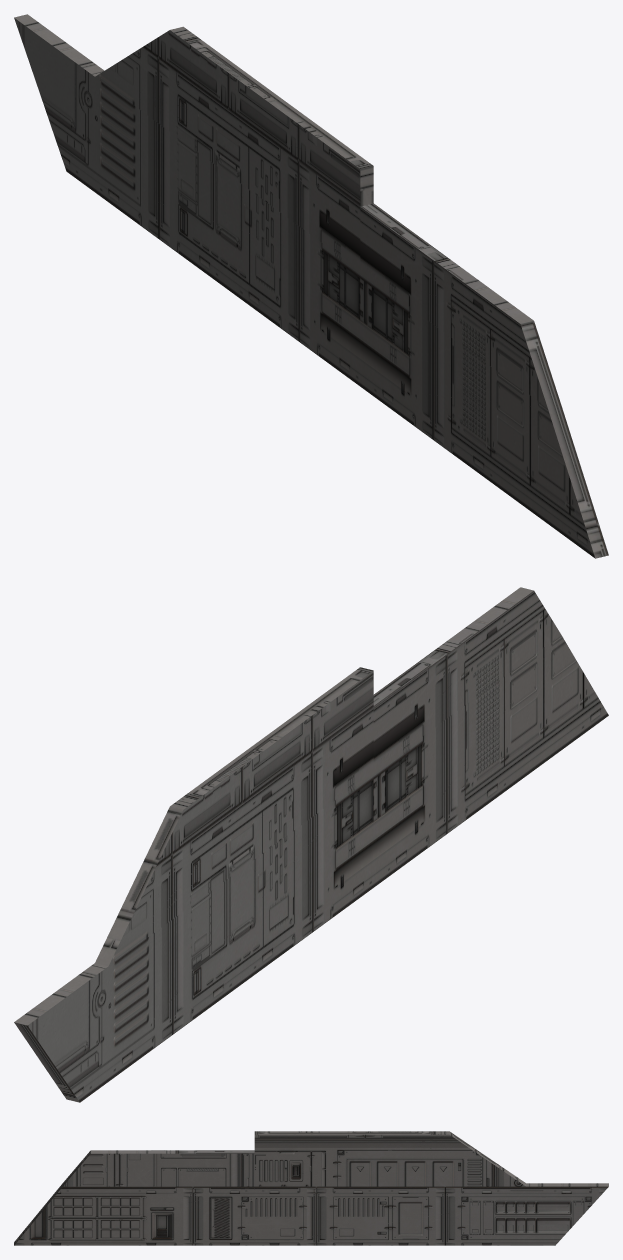
Rendered from SM_Ship_SideView 1.fbx.
3 views of the same model, one above another, from view 1: azimuth 30°, elevation 25°; view 2: azimuth 150°, elevation 25°; view 3: azimuth 270°, elevation 25° (orthographic). The views are drawn at different scales.
Visible parts, largest first — view 1: Cube.001; view 2: Cube.001; view 3: Cube.001.
Boxes of the visible parts, <box> form: Cube.001: <box>14,14,608,558</box>; Cube.001: <box>14,587,608,1102</box>; Cube.001: <box>14,1131,608,1245</box>.
Bounding box in the file's own units: 0.6821 × 10.43 × 50.59.
